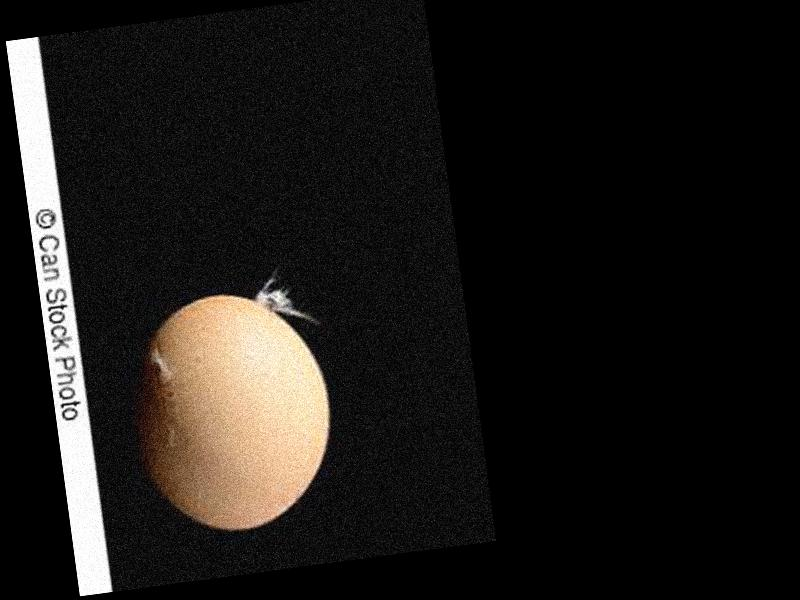Eggs: (118, 283, 341, 542)
